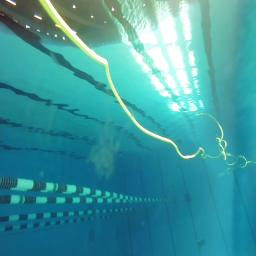Full: (197, 236, 205, 246)
